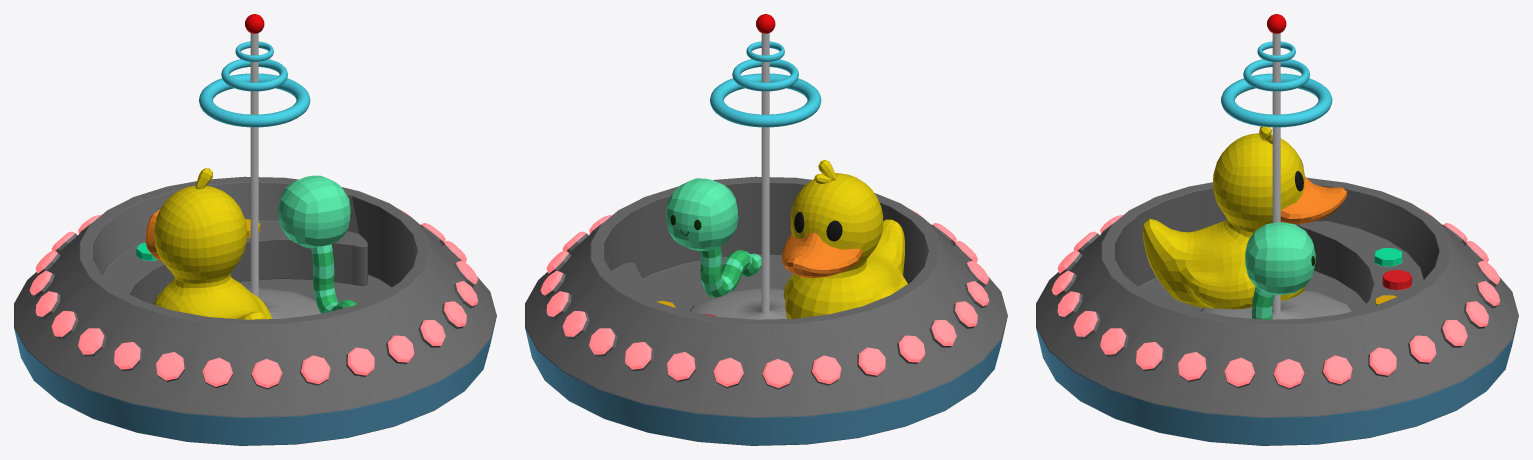
File: Ufo.fbx
The picture shows the model from 3 angles, left to right: view 1: azimuth 30°, elevation 25°; view 2: azimuth 150°, elevation 25°; view 3: azimuth 270°, elevation 25°; orthographic projection.
Parts seen in each view (by area): view 1: UFO; view 2: UFO; view 3: UFO.
Part boxes in pixels (x1=…): UFO: x1=14, y1=14, x2=496, y2=445; UFO: x1=525, y1=14, x2=1007, y2=445; UFO: x1=1036, y1=14, x2=1518, y2=445.
Size of the model in its own units: 316 by 282 by 316.
